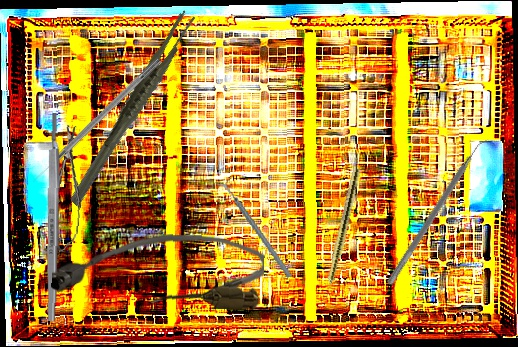Cannula: (50, 230, 266, 311)
Chopper: (214, 170, 294, 289)
Handpiece: (319, 167, 362, 307)
Hook Surgical: (29, 56, 163, 185)
Micro Scissor: (44, 123, 91, 254)
Scalpel Handle: (45, 112, 61, 322)
Spatula Surgical: (386, 132, 492, 291)
Tissue Forceps: (37, 7, 226, 209)
